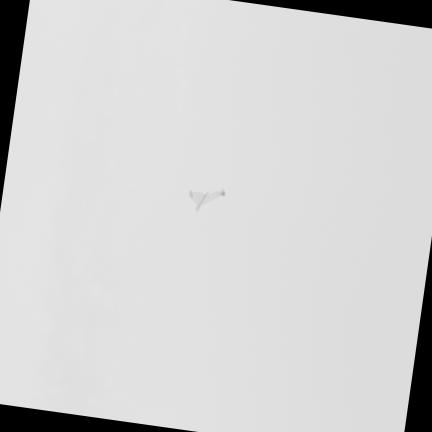Shahed: (188, 188, 224, 210)
